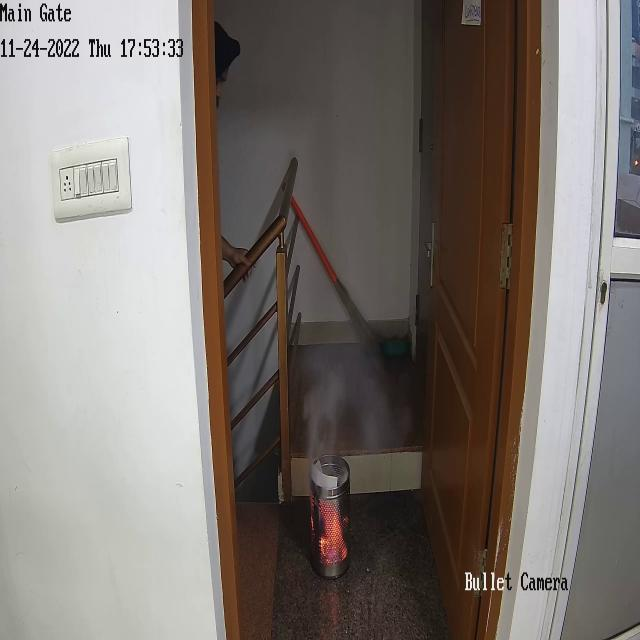fire: (316, 499, 350, 567)
smoke: (342, 336, 408, 443), (301, 368, 358, 450), (314, 115, 344, 234), (364, 220, 401, 314), (312, 280, 334, 355)
